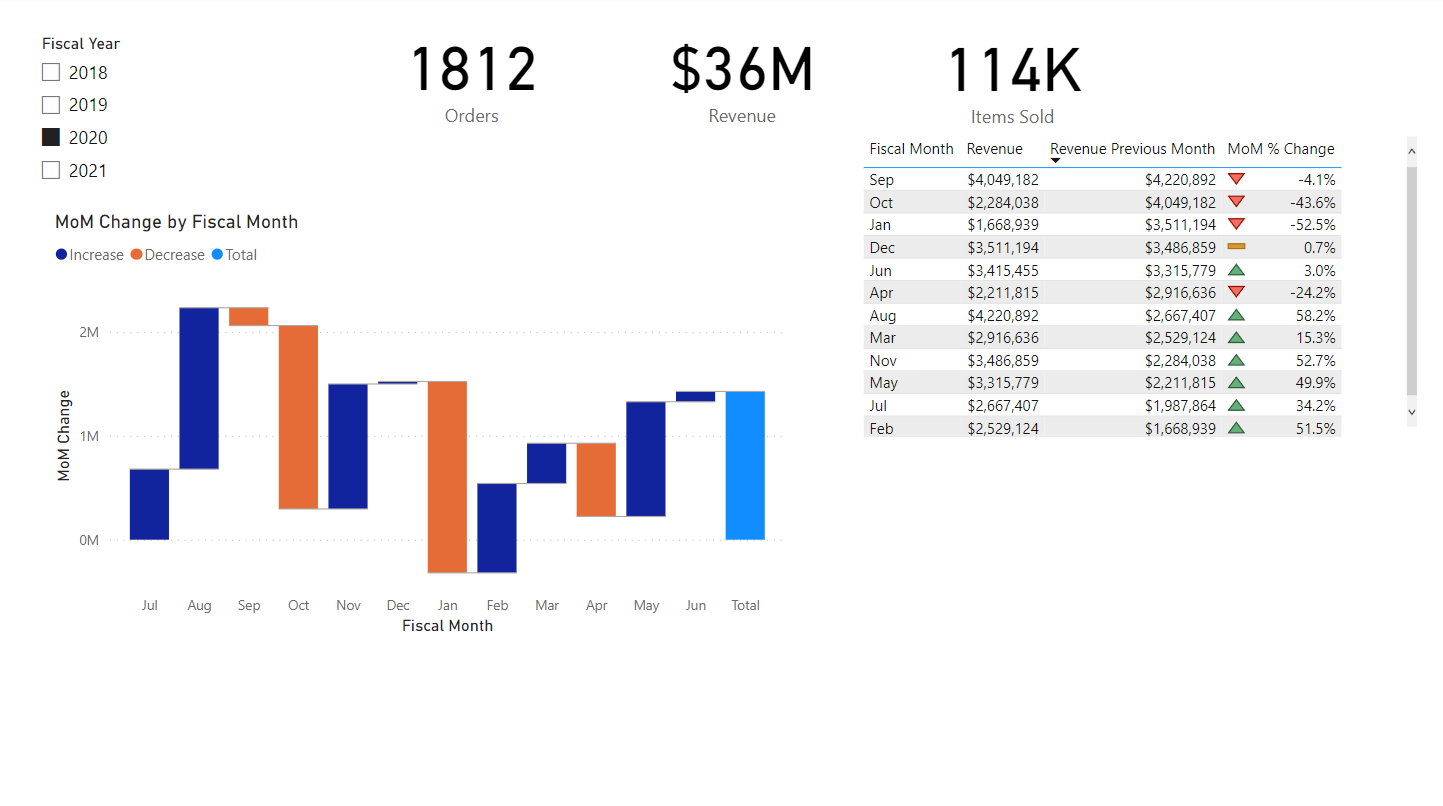

The dashboard page shown, as its layout file describes it:
{"tool":"powerbi","page":{"name":"Sales Trends","canvas":[1280,720],"ordinal":1},"visuals":[{"type":"card","fields":{"Values":["Order_Items.Orders"]},"box":[316.7,15.1,203.2,103],"z":0},{"type":"card","fields":{"Values":["Order_Items.Revenue"]},"box":[555.9,15.1,204.2,103],"z":1000},{"type":"card","fields":{"Values":["Order_Items.Items Sold"]},"box":[796,16.1,203.2,103],"z":2000},{"type":"slicer","fields":{"Values":["Calendar.Fiscal Year"]},"box":[24.6,28.4,143.7,160.7],"z":3000},{"type":"waterfallChart","fields":{"Category":["Calendar.Fiscal Month"],"Y":["Order_Items.MoM Change"]},"box":[44.3,188.9,657,381.3],"z":4000},{"type":"tableEx","fields":{"Values":["Calendar.Fiscal Month","Order_Items.Revenue","Order_Items.Revenue Previous Month","Order_Items.MoM % Change"]},"box":[759.9,118.7,501.3,276.3],"z":5000}]}

Visuals, with their boxes in screenshot pixels (x1, y1, x2, y2), scaled from the page's 1280x720 canvas onto the 1443x806 screenshot:
card - Order_Items.Orders: 357,17,586,132
card - Order_Items.Revenue: 627,17,857,132
card - Order_Items.Items Sold: 897,18,1126,133
slicer - Calendar.Fiscal Year: 28,32,190,212
waterfallChart - Calendar.Fiscal Month x Order_Items.MoM Change: 50,211,791,638
tableEx - Calendar.Fiscal Month x Order_Items.Revenue: 857,133,1422,442
